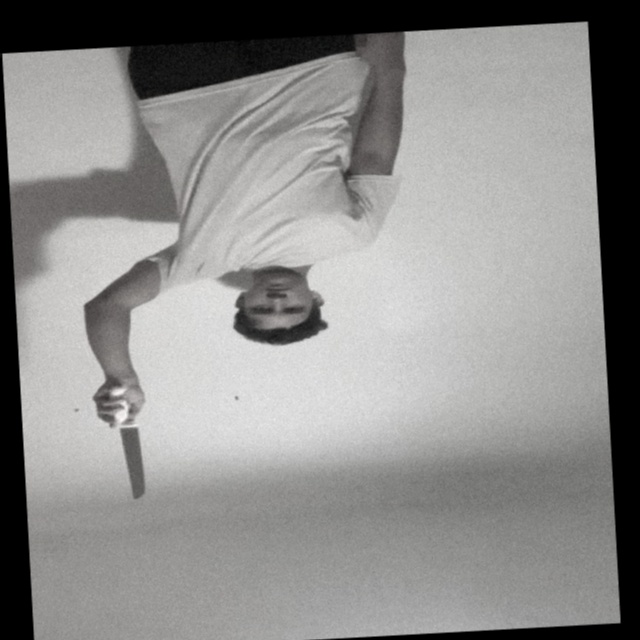Sharp-Object: (122, 424, 143, 501)
